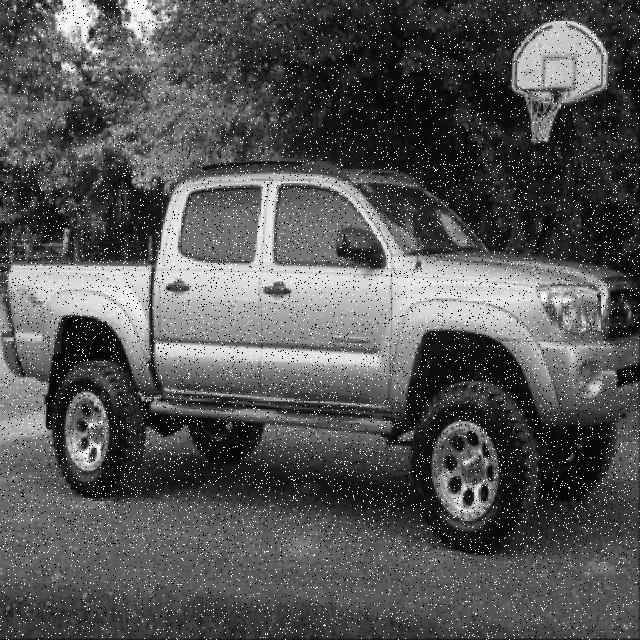Pickup: (0, 159, 640, 556)
